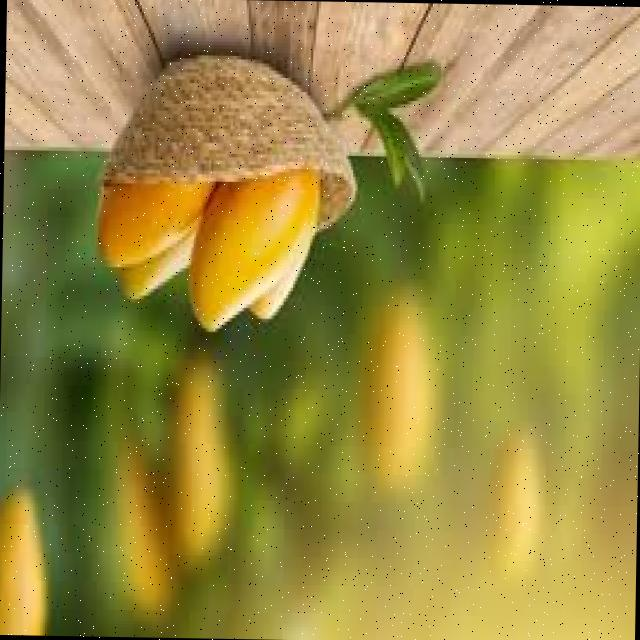mango: (186, 168, 318, 330)
